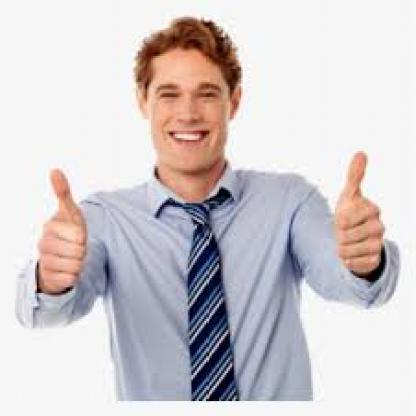Thumbs up: (320, 137, 395, 284), (34, 162, 98, 300)
